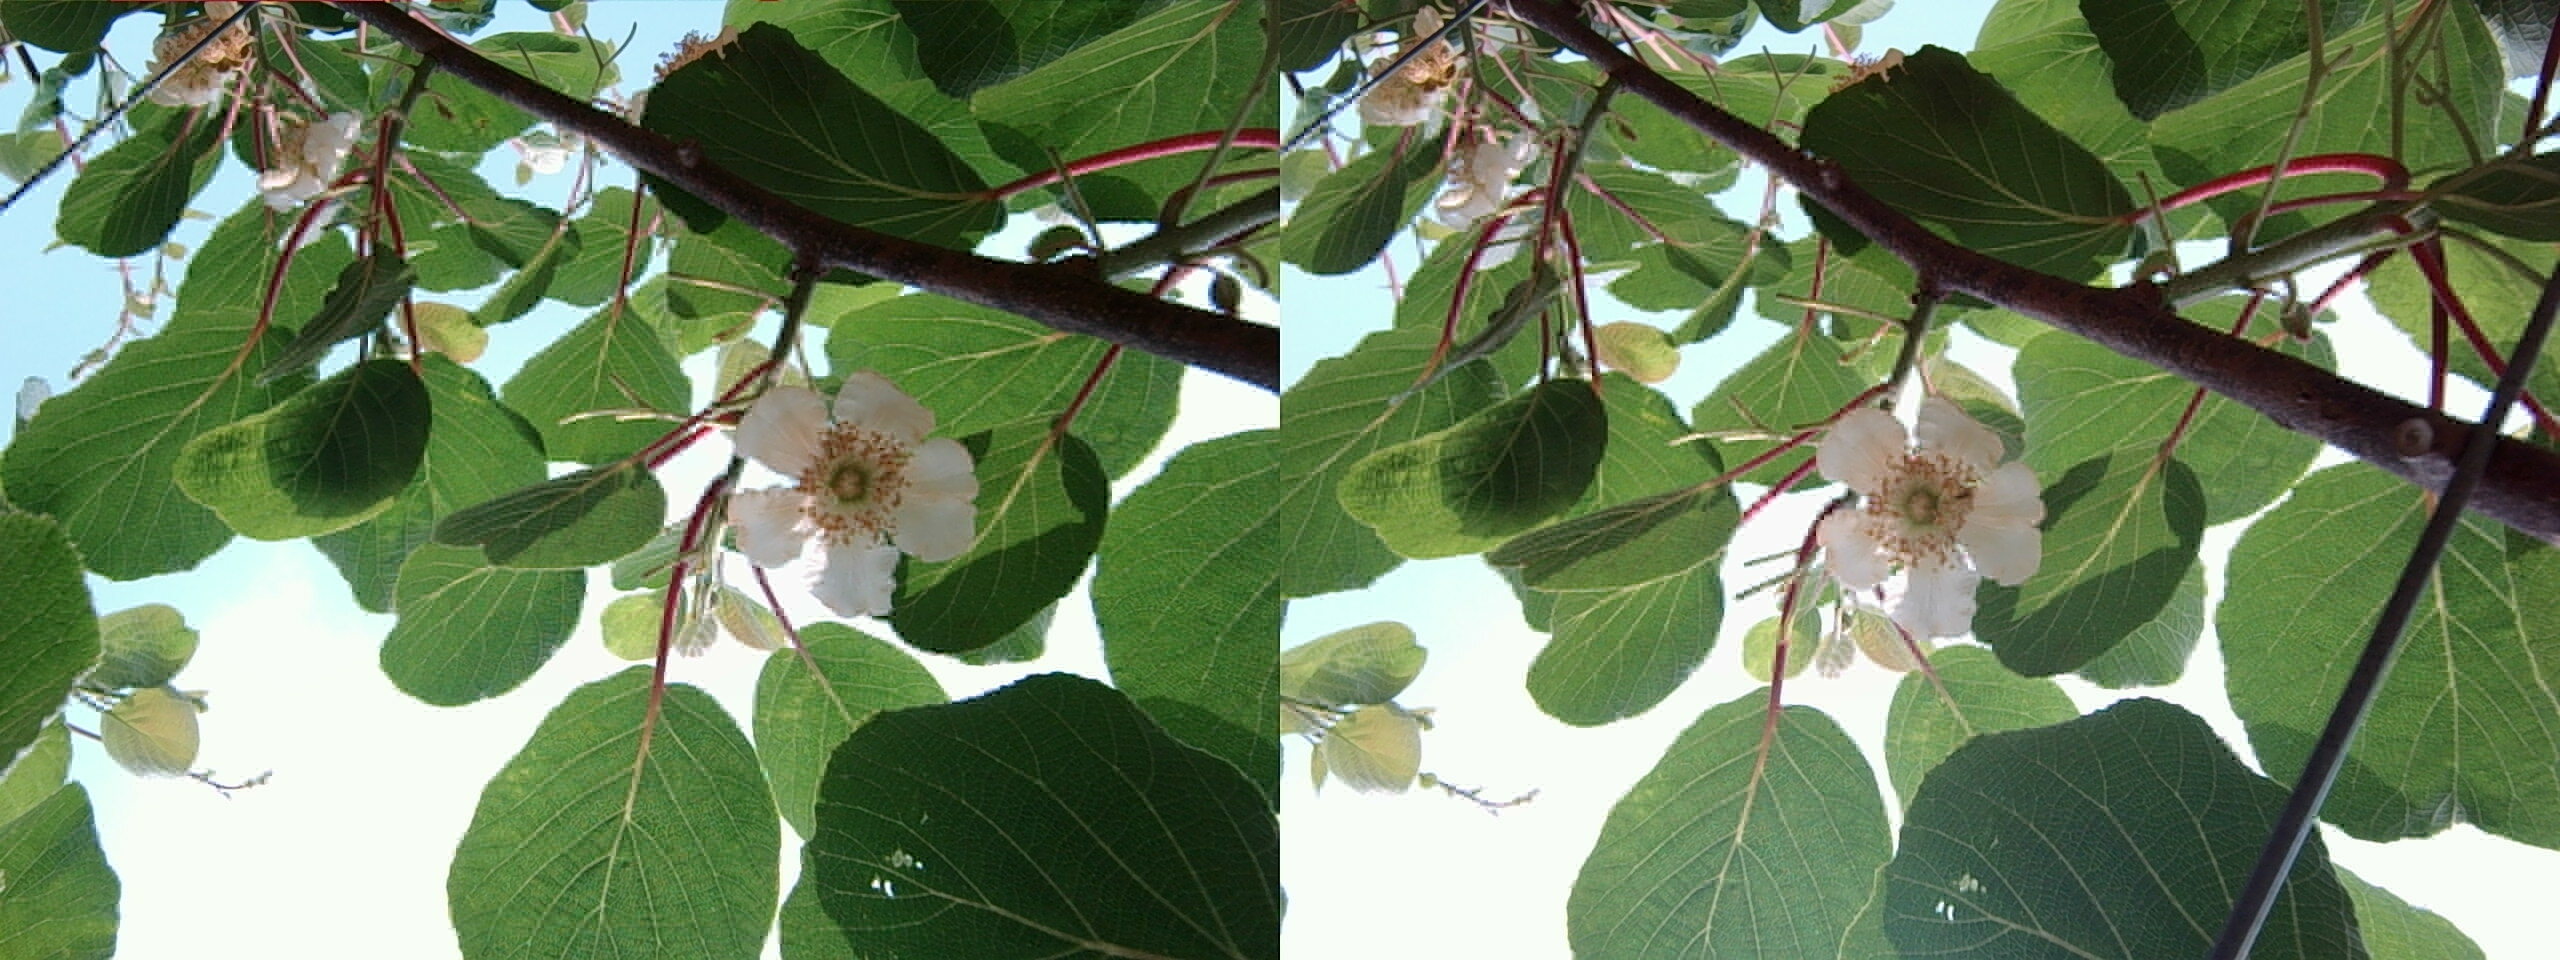flower: (730, 367, 994, 624), (1799, 392, 2057, 653)
